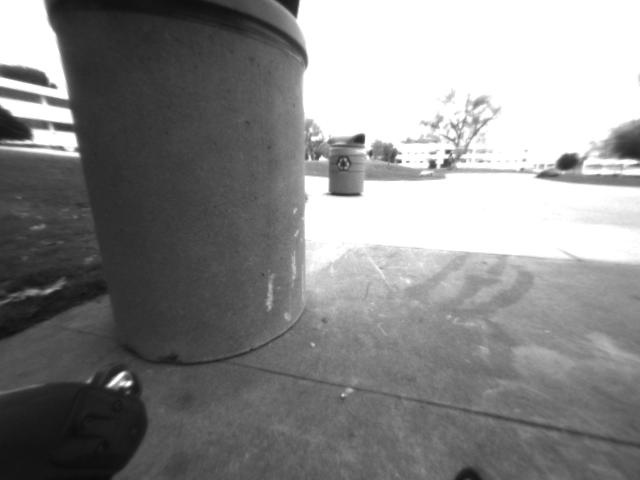trashcan: (42, 1, 315, 367)
